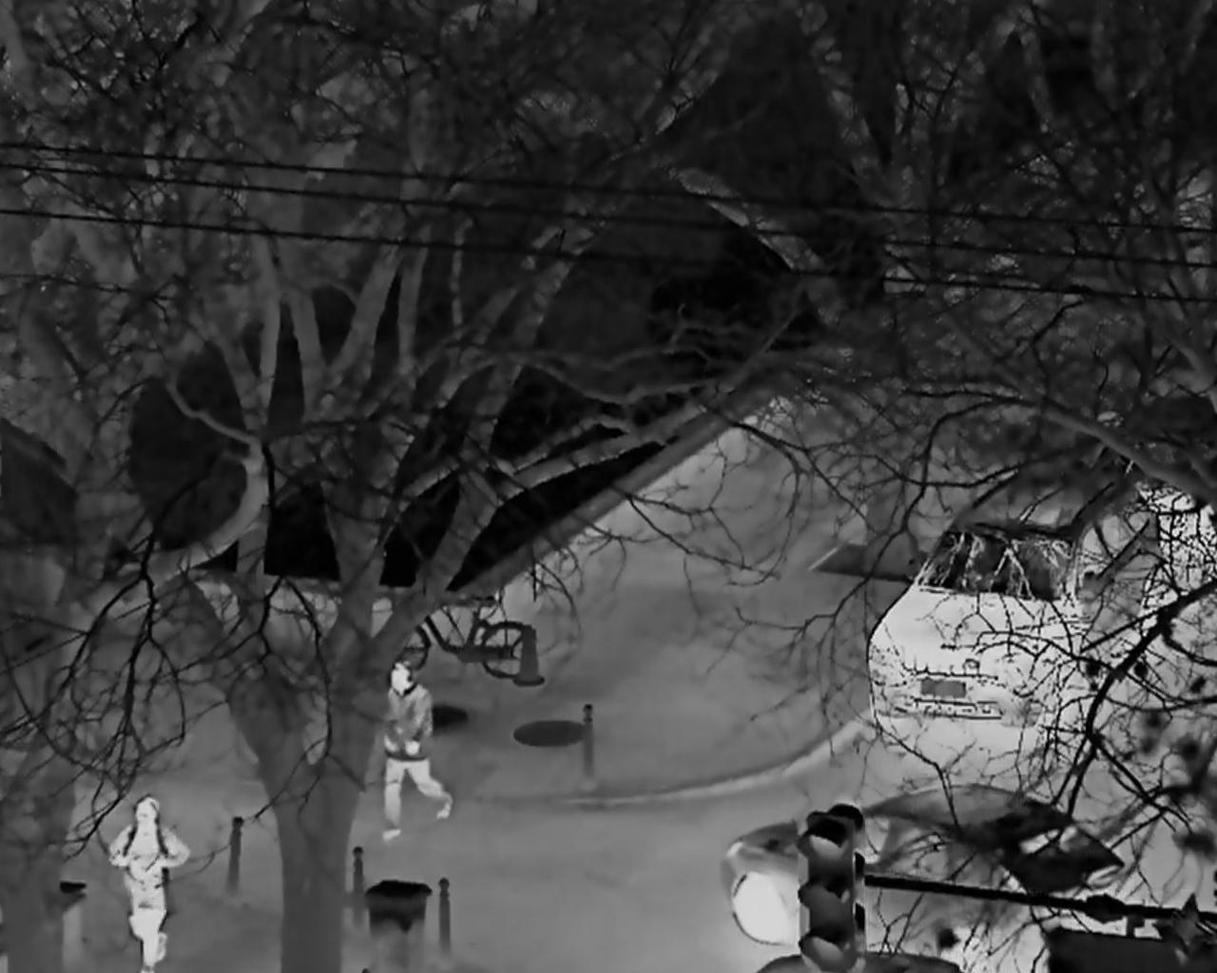person: (108, 792, 192, 973), (379, 659, 454, 842)
